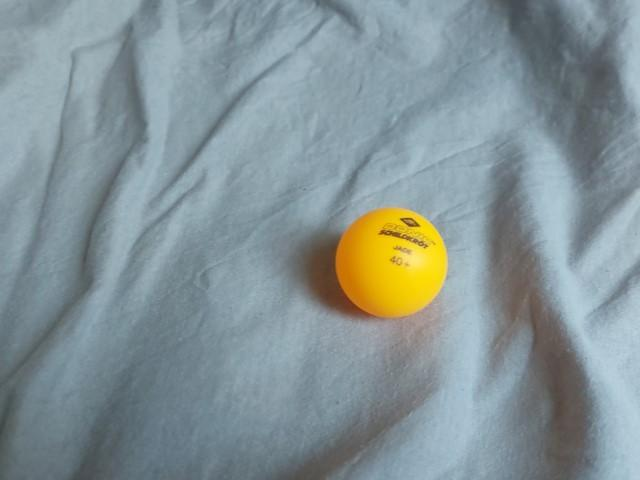oball: (326, 199, 457, 329)
